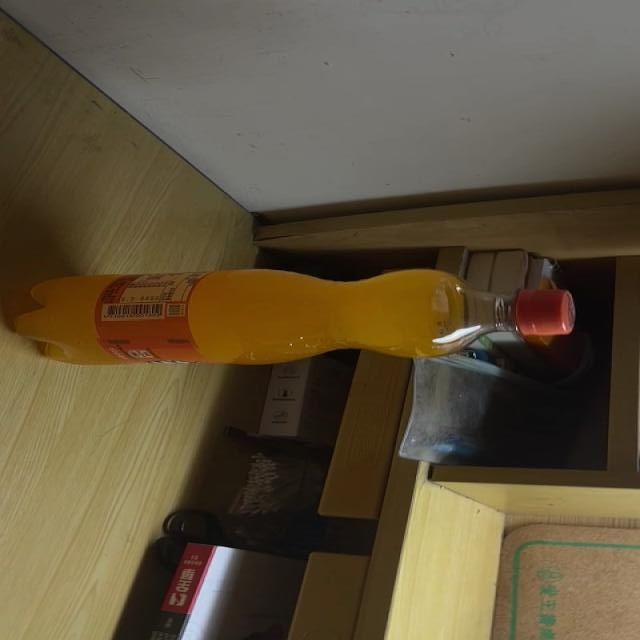Fanta: (14, 267, 576, 367)
